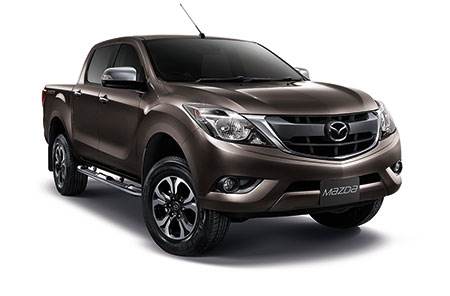pickup: (38, 33, 404, 257)
